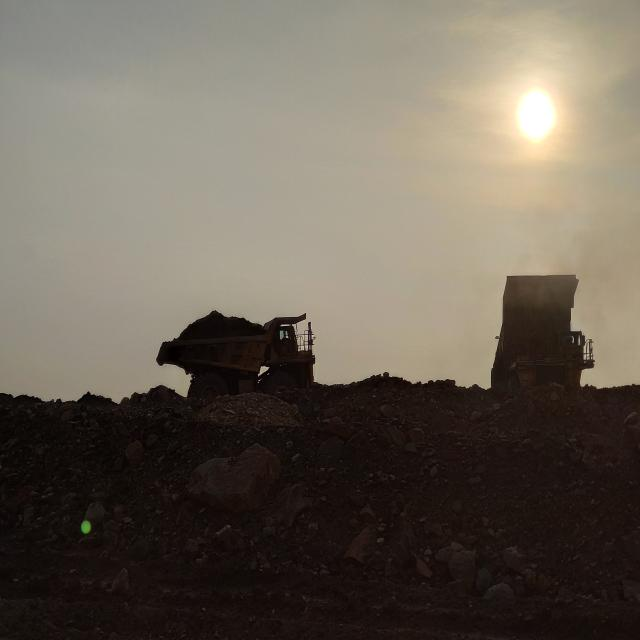dump_truck: (156, 313, 315, 402), (491, 275, 594, 390), (184, 313, 258, 333)
